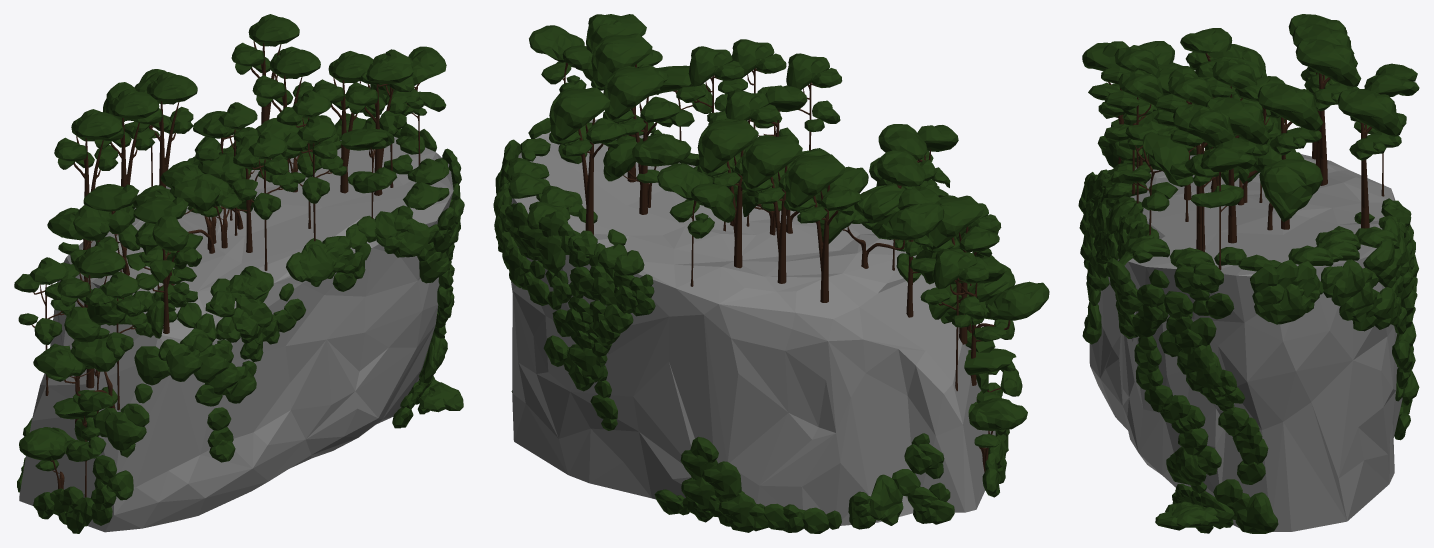
File: SM_cliff_vegetation_02.fbx
The picture shows the model from 3 angles, left to right: view 1: azimuth 30°, elevation 25°; view 2: azimuth 150°, elevation 25°; view 3: azimuth 270°, elevation 25°; orthographic projection. The views are drawn at different scales.
Parts seen in each view (by area): view 1: Object137; view 2: Object137; view 3: Object137.
Boxes of the visible parts, x1,y1,x2,y2 form: Object137: (14,14,464,533); Object137: (493,14,1049,533); Object137: (1078,14,1419,533).
Size of the model in its own units: 2301 by 1836 by 1358.
